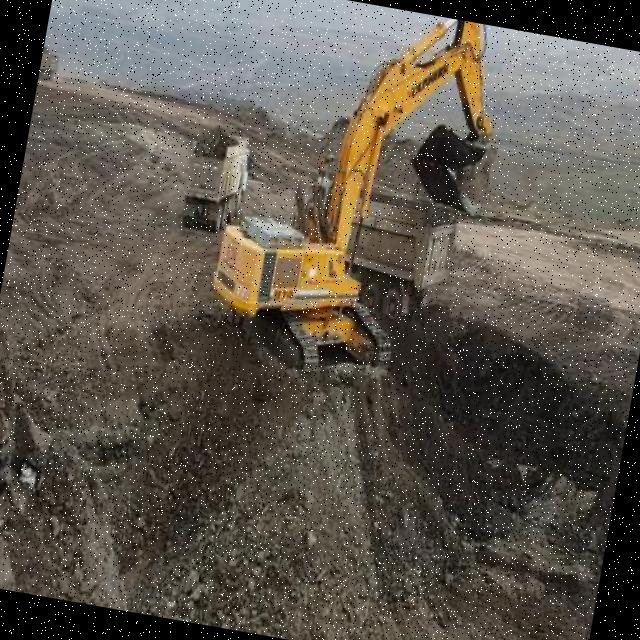Dump Truck: (331, 180, 462, 327), (176, 125, 256, 238), (37, 48, 64, 82)
Excavator: (197, 0, 518, 409)
